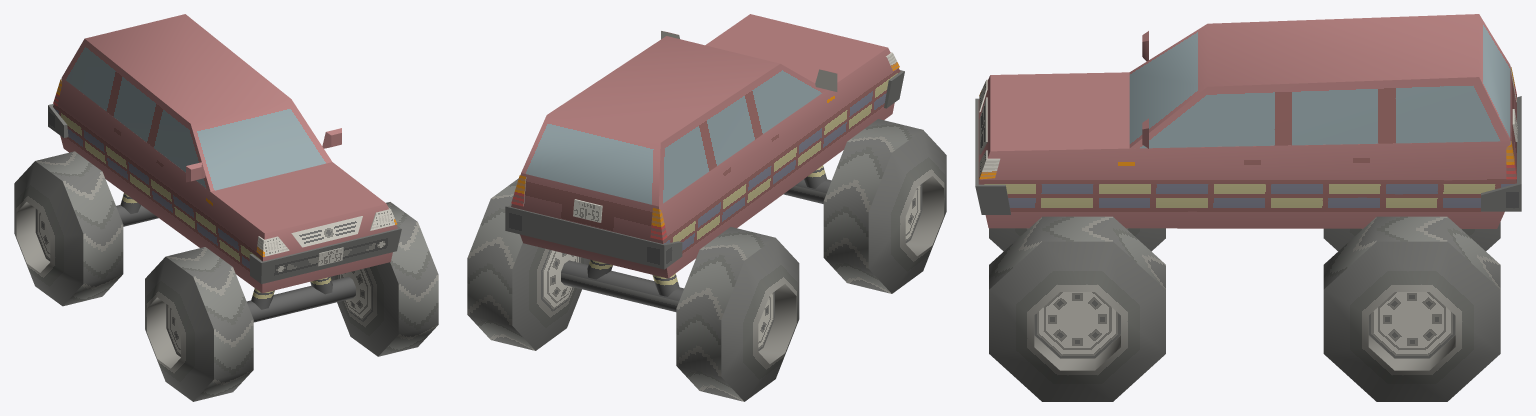
File: 01a2_Monster_Truck.glb
The picture shows the model from 3 angles, left to right: view 1: azimuth 30°, elevation 25°; view 2: azimuth 150°, elevation 25°; view 3: azimuth 270°, elevation 25°; orthographic projection. The views are drawn at different scales.
Parts seen in each view (by area): view 1: part_0, part_1, part_2; view 2: part_0, part_2, part_1; view 3: part_0, part_2, part_1.
Part boxes in pixels (box(x1,y1,x2,y2)): part_0: box(48, 14, 401, 322); part_1: box(145, 202, 438, 401); part_2: box(14, 151, 123, 306); part_0: box(505, 14, 904, 311); part_2: box(467, 178, 799, 401); part_1: box(823, 119, 946, 293); part_0: box(975, 14, 1521, 228); part_2: box(1323, 216, 1500, 401); part_1: box(989, 216, 1165, 401).
Bounding box in the file's own units: 2.77 × 2.31 × 4.
3 materials, 3 textured.
